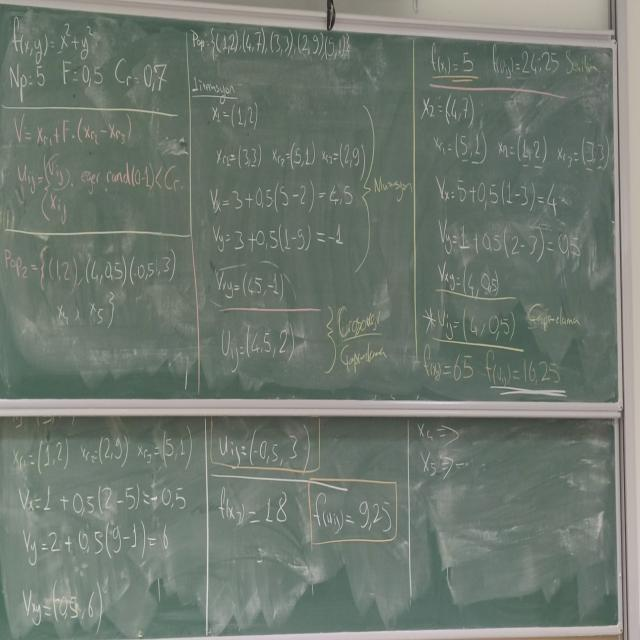math: (5, 424, 194, 629), (209, 101, 367, 304), (422, 213, 594, 396), (420, 88, 612, 214), (212, 429, 395, 536), (3, 241, 185, 347), (10, 116, 184, 226), (8, 8, 176, 108), (213, 322, 302, 373), (419, 421, 449, 491)
